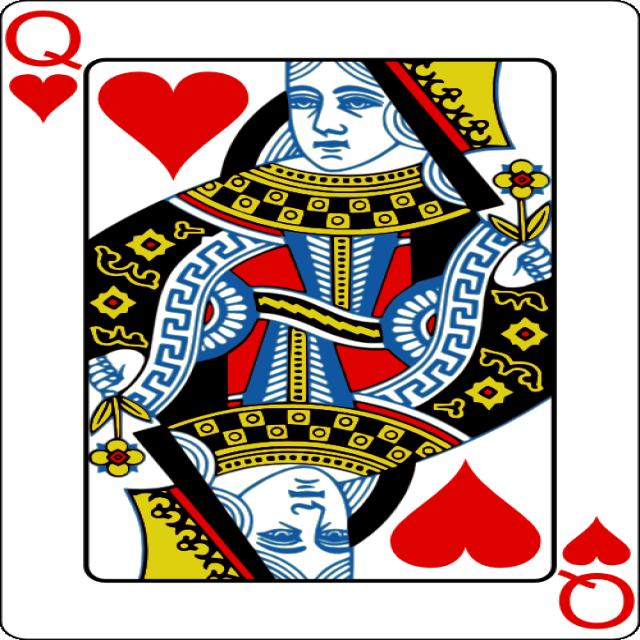Heart: (97, 72, 249, 182), (390, 458, 542, 568), (8, 74, 78, 124), (562, 516, 631, 566)
Queen: (4, 10, 82, 70), (559, 570, 634, 629)
